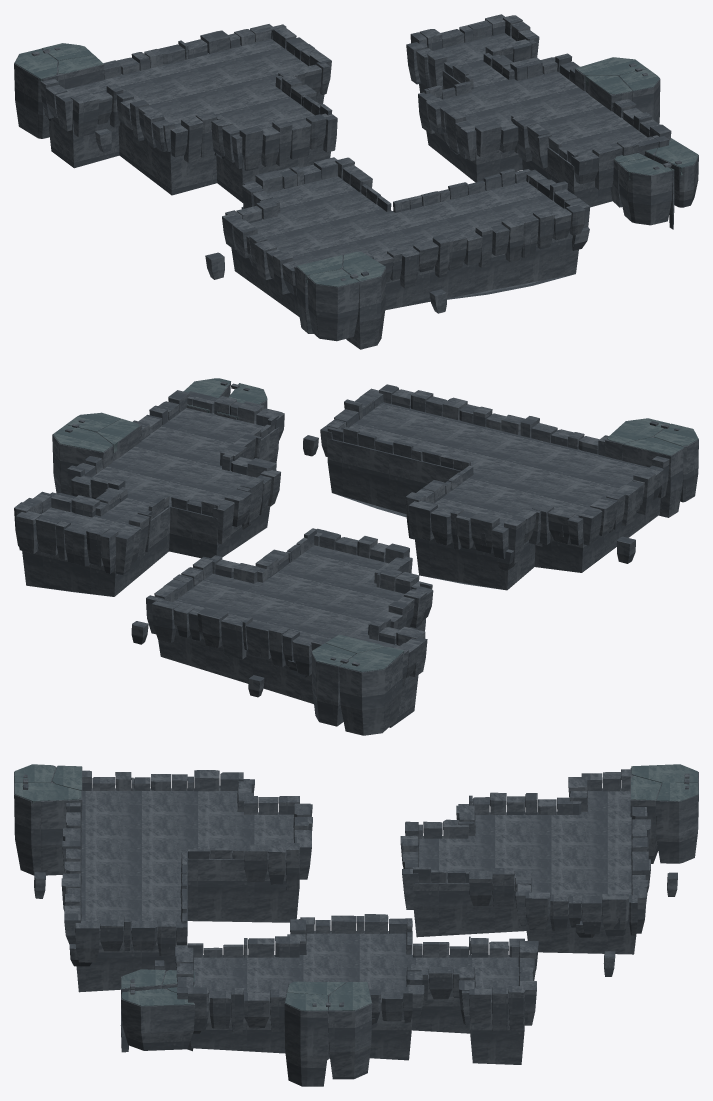
File: chapter2_stage25_geology.glb
3 renders of one model, top to bottom at view 1: azimuth 30°, elevation 25°; view 2: azimuth 150°, elevation 25°; view 3: azimuth 270°, elevation 25°, orthographic. The views are drawn at different scales.
Visible parts, largest first — view 1: stage25_continuous_rock_strata; view 2: stage25_continuous_rock_strata; view 3: stage25_continuous_rock_strata.
Boxes of the visible parts, box(x1,y1,x2,y2) form: stage25_continuous_rock_strata: box(14, 14, 698, 349); stage25_continuous_rock_strata: box(14, 378, 698, 735); stage25_continuous_rock_strata: box(14, 764, 698, 1086).
Bounding box in the file's own units: 10.86 × 1.66 × 12.17.
Materials: 2 (2 with a texture image).
